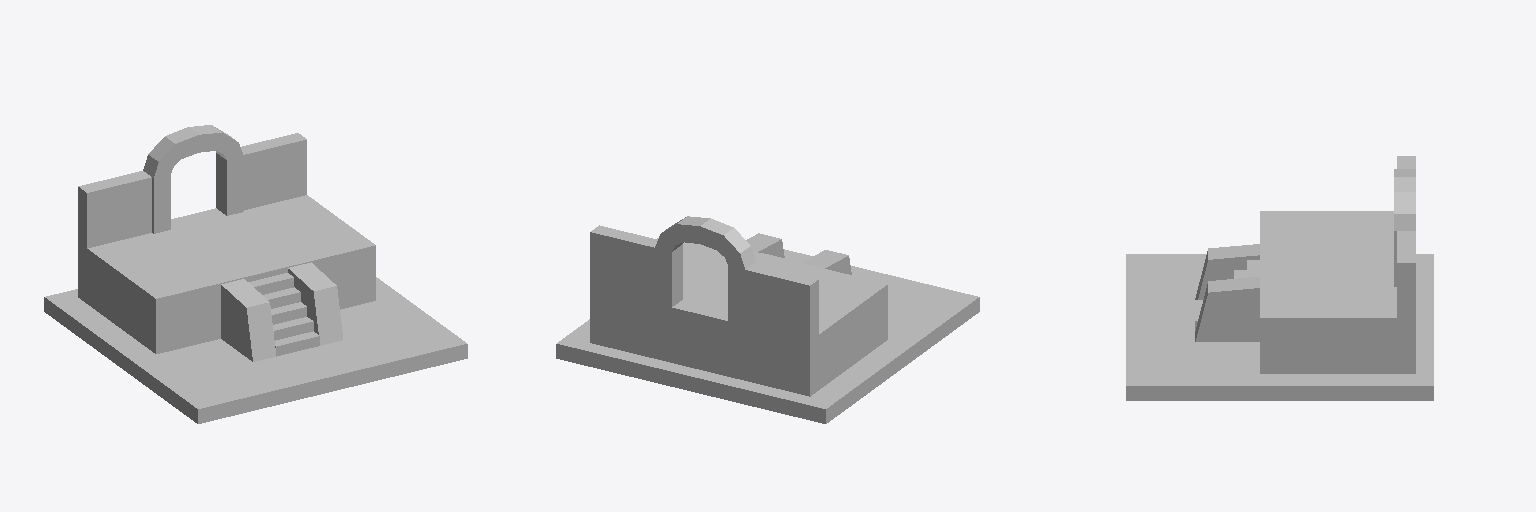
File: Gate.obj
3 views of the same model, side by side, from view 1: azimuth 30°, elevation 25°; view 2: azimuth 150°, elevation 25°; view 3: azimuth 270°, elevation 25° (orthographic).
Visible parts, largest first — view 1: pCube1, pCube9, pCube13, pCube12, pCube8, pCube11, pCube10, pCube7, pCube6, pCube5, pCube2, pCube4; view 2: pCube1, pCube9, pCube13, pCube12, pCube10, pCube11, pCube8, pCube7; view 3: pCube1, pCube9, pCube7, pCube8, pCube12, pCube10.
Part boxes in pixels (x1,y1,x2,y2): pCube1: (78, 195, 375, 353); pCube9: (44, 277, 467, 423); pCube13: (78, 171, 151, 248); pCube12: (241, 133, 306, 209); pCube8: (221, 279, 275, 361); pCube11: (143, 127, 198, 233); pCube10: (189, 125, 243, 215); pCube7: (288, 262, 342, 345); pCube6: (275, 331, 319, 356); pCube5: (273, 317, 313, 340); pCube2: (249, 273, 293, 294); pCube4: (271, 302, 306, 324); pCube1: (590, 238, 887, 396); pCube9: (556, 249, 979, 423); pCube13: (745, 263, 818, 340); pCube12: (590, 225, 657, 302); pCube10: (655, 216, 710, 306); pCube11: (700, 219, 755, 324); pCube8: (802, 250, 851, 274); pCube7: (746, 233, 784, 257); pCube1: (1260, 211, 1415, 373); pCube9: (1126, 254, 1433, 400); pCube7: (1195, 277, 1259, 341); pCube8: (1195, 244, 1259, 299); pCube12: (1397, 231, 1415, 317); pCube10: (1394, 177, 1415, 286).
Size of the model in its own units: 9.54 by 5.37 by 9.42.